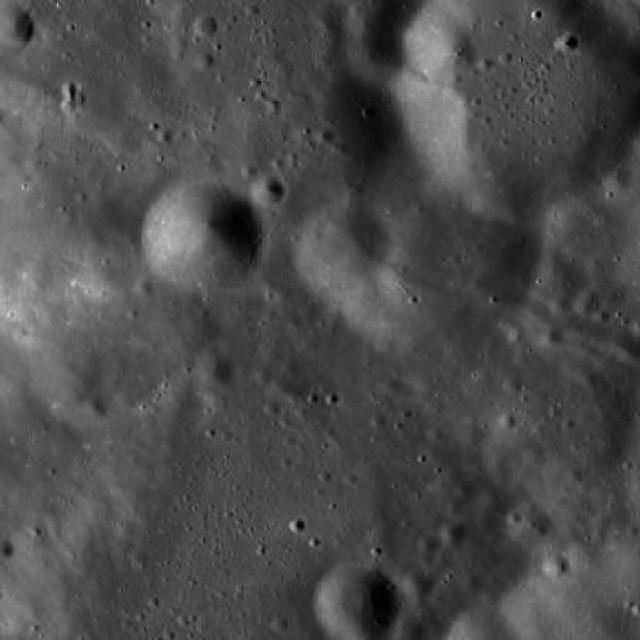crater: (332, 162, 542, 362), (142, 182, 262, 296), (294, 204, 397, 302), (34, 340, 108, 409), (406, 11, 474, 77), (150, 294, 216, 356), (347, 27, 405, 82), (349, 0, 414, 48), (527, 252, 584, 306), (507, 504, 558, 552), (157, 382, 205, 426), (0, 0, 34, 57), (104, 114, 148, 157), (194, 348, 234, 386), (250, 172, 286, 206), (600, 162, 632, 192), (606, 327, 636, 356), (404, 572, 434, 600), (441, 520, 468, 546), (574, 290, 600, 316), (82, 395, 109, 420), (386, 375, 412, 400), (458, 422, 484, 447), (544, 554, 568, 578), (368, 523, 392, 546), (418, 532, 442, 554), (194, 16, 217, 38), (540, 326, 563, 348), (556, 32, 578, 54), (550, 294, 572, 314), (524, 444, 546, 464), (463, 576, 485, 596), (192, 51, 212, 71), (58, 95, 78, 114), (584, 255, 604, 274), (254, 365, 274, 383), (270, 377, 290, 395), (0, 536, 15, 559), (280, 358, 298, 377), (407, 592, 425, 611), (298, 305, 316, 323), (134, 276, 154, 292), (317, 127, 334, 144), (62, 81, 80, 97), (498, 412, 516, 428), (418, 552, 436, 568), (454, 482, 472, 498), (288, 516, 306, 532), (503, 378, 520, 394), (507, 326, 524, 342), (272, 616, 288, 632), (0, 0, 2, 2)
